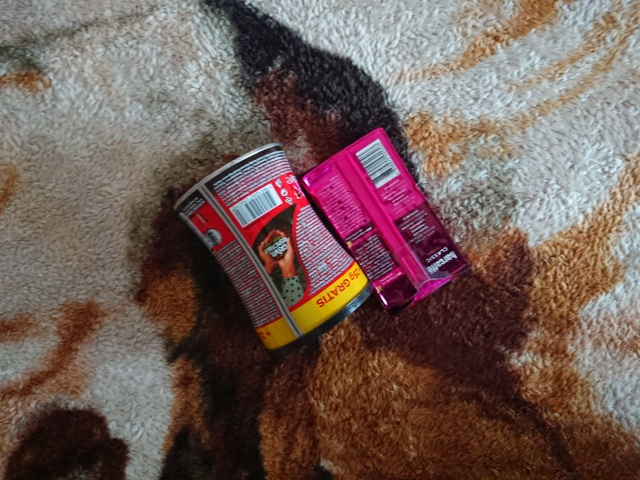Barcaffe Classic Original 225g: (297, 125, 472, 321)
Nescafe Classic 225g: (170, 138, 377, 359)
